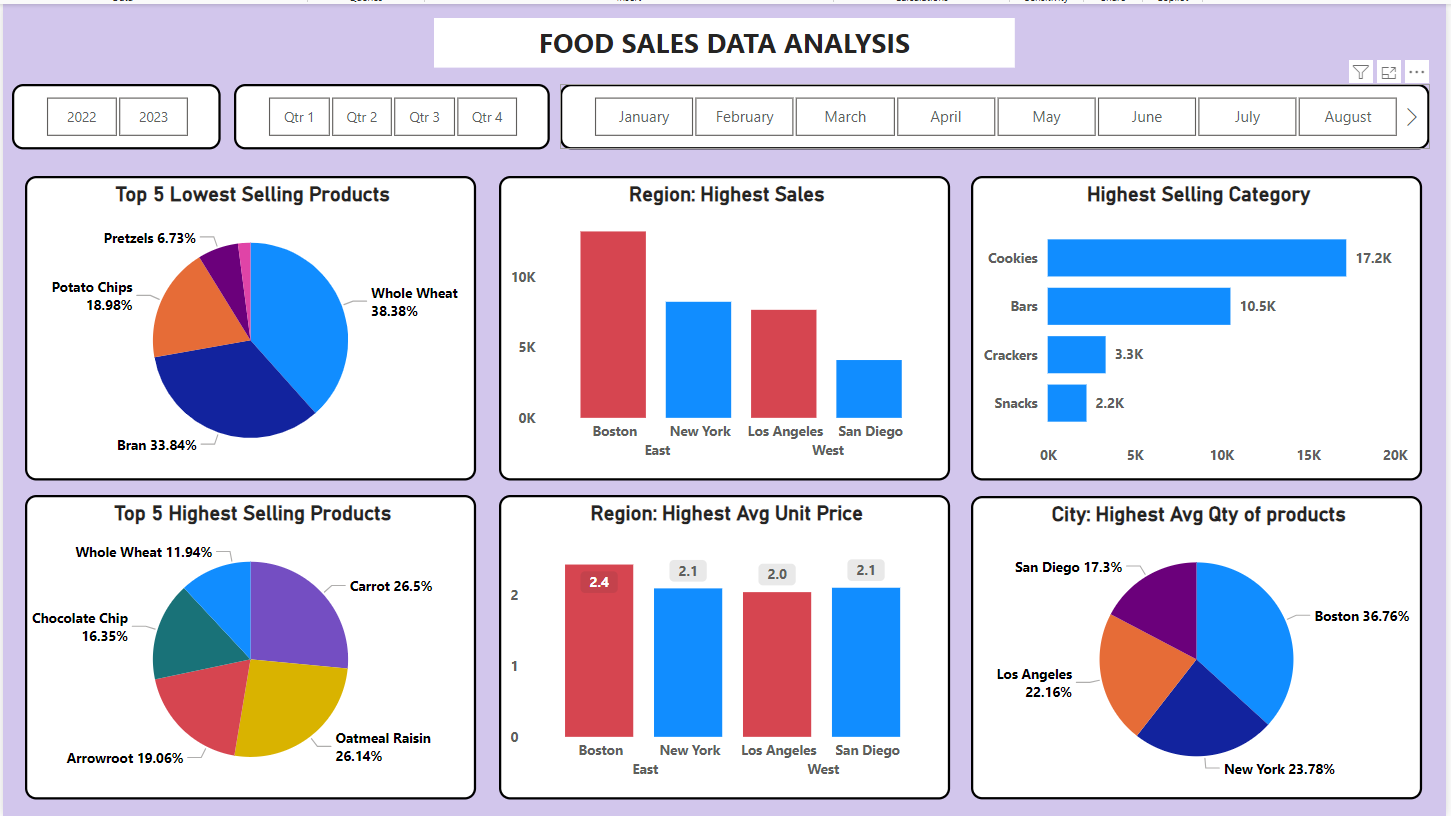

Layout of this report page (visuals, bound fields, positions):
{"tool":"powerbi","page":{"name":"Page 1","canvas":[1280,720],"ordinal":0},"visuals":[{"type":"textbox","box":[382.2,12.4,515.2,44.3],"z":0},{"type":"columnChart","title":"Region: Highest Sales","fields":{"Y":["Sum(Sheet1.TotalPrice)"],"Category":["Sheet1.Region","Sheet1.City"]},"box":[439.8,152.5,399.9,270.4],"z":1000},{"type":"pieChart","title":"Top 5 Highest Selling Products ","fields":{"Category":["Sheet1.Product"],"Y":["Sum(Sheet1.TotalPrice)"]},"box":[19.5,435.4,399.9,270.4],"z":2000},{"type":"clusteredBarChart","title":"Highest Selling Category","fields":{"Y":["Sum(Sheet1.TotalPrice)"],"Category":["Sheet1.Category"]},"box":[858.3,152.5,399.9,270.4],"z":3000},{"type":"columnChart","title":"Region: Highest Avg Unit Price","fields":{"Y":["Avg(Sheet1.UnitPrice)"],"Category":["Sheet1.Region","Sheet1.City"]},"box":[439.8,435.4,399.9,270.4],"z":4000},{"type":"pieChart","title":"City: Highest Avg Qty of products ","fields":{"Y":["CountNonNull(Sheet1.Product)"],"Category":["Sheet1.City"]},"box":[858.3,436.3,399.9,268.7],"z":5000},{"type":"slicer","fields":{"Values":["Sheet1.Date.Variation.Date Hierarchy.Year"]},"box":[8,70.9,185.3,57.6],"z":6000},{"type":"pieChart","title":"Top 5 Lowest Selling Products ","fields":{"Category":["Sheet1.Product"],"Y":["Sum(Sheet1.TotalPrice)"]},"box":[19.5,152.5,399.9,270.4],"z":7000},{"type":"slicer","fields":{"Values":["Sheet1.Date.Variation.Date Hierarchy.Quarter"]},"box":[204.8,70.9,280.2,57.6],"z":7001},{"type":"slicer","fields":{"Values":["Sheet1.Date.Variation.Date Hierarchy.Month"]},"box":[493.9,70.9,771.4,57.6],"z":7002}]}

Visuals, with their boxes in screenshot pixels (x1, y1, x2, y2):
textbox: locate(435, 18, 1011, 67)
"Region: Highest Sales" columnChart: locate(499, 174, 946, 477)
"Top 5 Highest Selling Products " pieChart: locate(29, 491, 476, 793)
"Highest Selling Category" clusteredBarChart: locate(967, 174, 1414, 477)
"Region: Highest Avg Unit Price" columnChart: locate(499, 491, 946, 793)
"City: Highest Avg Qty of products " pieChart: locate(967, 492, 1414, 792)
slicer - Sheet1.Date.Variation.Date Hierarchy.Year: locate(17, 83, 224, 147)
"Top 5 Lowest Selling Products " pieChart: locate(29, 174, 476, 477)
slicer - Sheet1.Date.Variation.Date Hierarchy.Quarter: locate(237, 83, 550, 147)
slicer - Sheet1.Date.Variation.Date Hierarchy.Month: locate(560, 83, 1422, 147)
